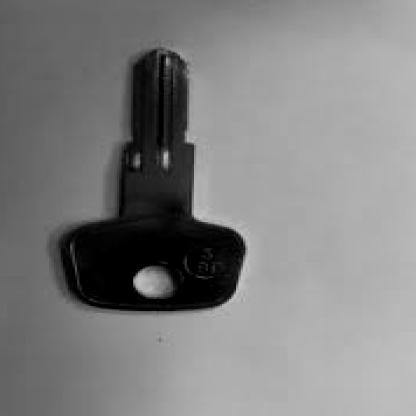key: (57, 52, 260, 317)
